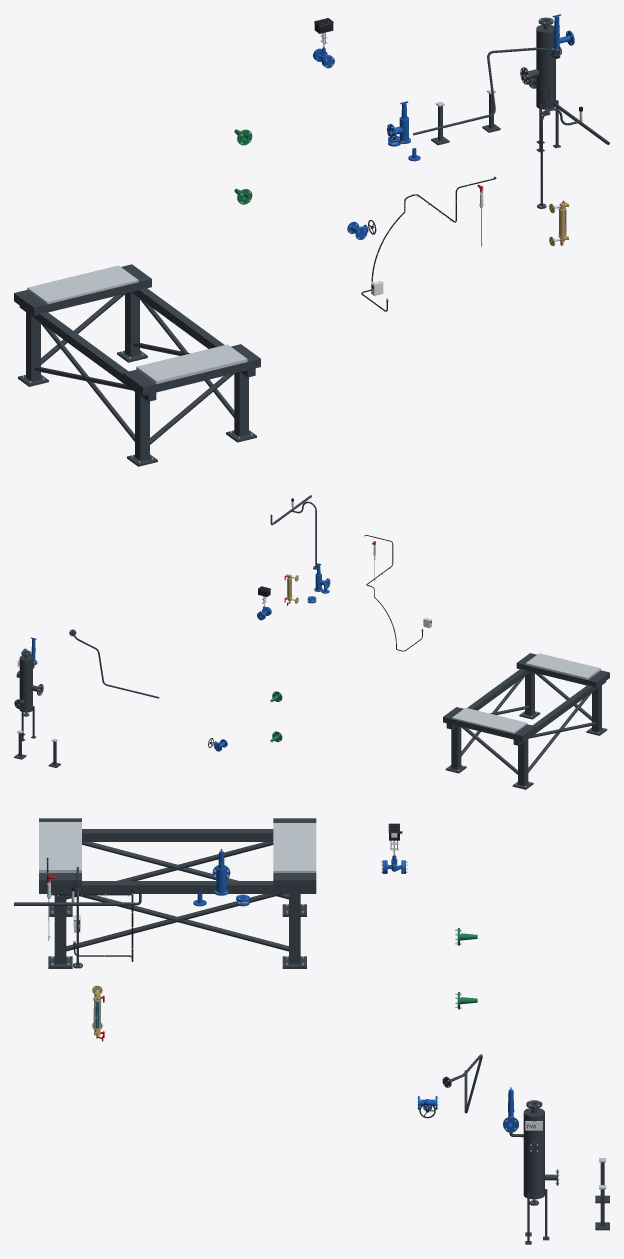
3 views of the same model, one above another, from view 1: azimuth 30°, elevation 25°; view 2: azimuth 150°, elevation 25°; view 3: azimuth 270°, elevation 25° (orthographic). The views are drawn at different scales.
Parts seen in each view (by area): view 1: deaerator_support / dark, deaerator_support / steel, separator_fv8 / dark, pressure_header / dark, tds_without_fv / dark; view 2: deaerator_support / dark, deaerator_support / steel, separator_fv8 / dark; view 3: deaerator_support / dark, deaerator_support / steel, separator_fv8 / dark, pressure_header / dark.
Part boxes in pixels (x1,y1,x2,y2): deaerator_support / dark: [14, 264, 260, 466]; deaerator_support / steel: [22, 265, 252, 462]; separator_fv8 / dark: [520, 17, 561, 152]; pressure_header / dark: [537, 85, 609, 208]; tds_without_fv / dark: [413, 46, 560, 135]; deaerator_support / dark: [443, 653, 609, 789]; deaerator_support / steel: [449, 653, 604, 786]; separator_fv8 / dark: [14, 650, 43, 741]; deaerator_support / dark: [39, 818, 316, 968]; deaerator_support / steel: [39, 822, 316, 965]; separator_fv8 / dark: [505, 1100, 558, 1244]; pressure_header / dark: [14, 867, 141, 968].
Size of the model in its own units: 8.24 by 2.96 by 6.1.
